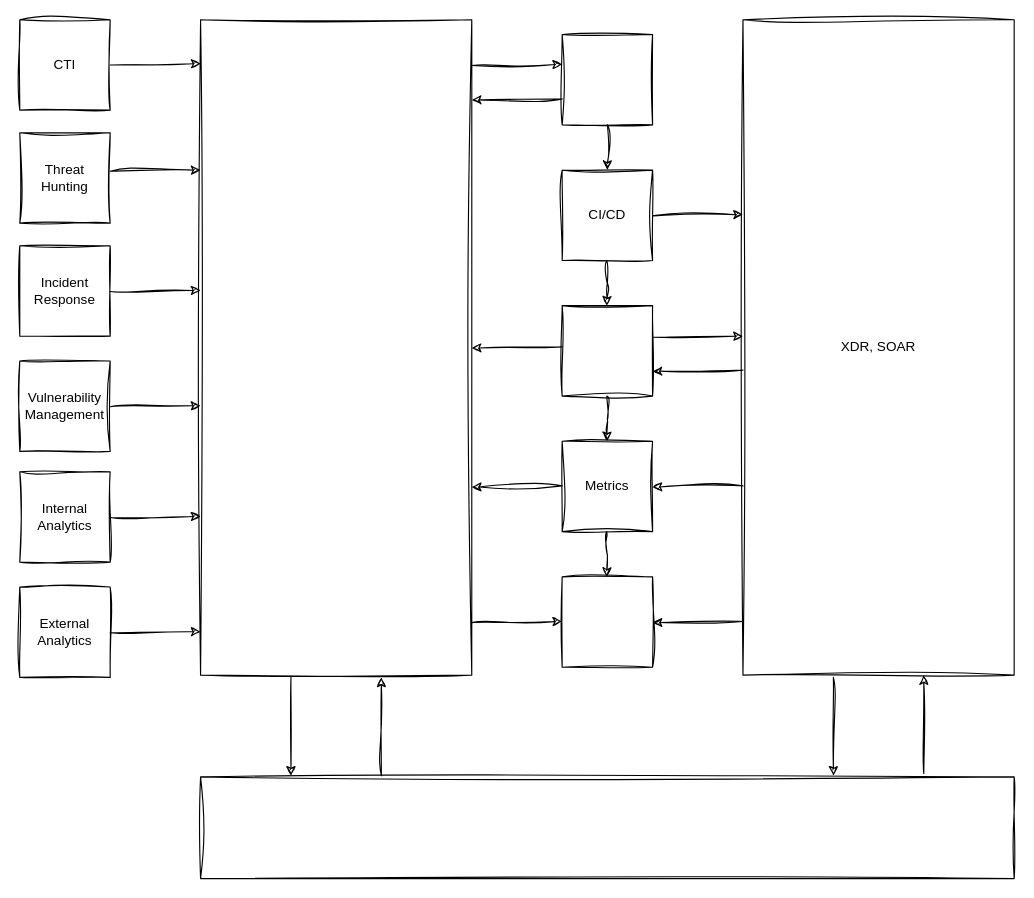
The diagram is 1034 pixels wide and 898 high, and some of its shapes have lost their labels. Each missing label, with the centre of its shape:
"Detection Development" goes at point 335,347.
"Documentation" goes at point 607,621.
"Purple Teaming, Adversary Emulation" goes at point 606,827.
"Repository" goes at point 607,79.
"Validation" goes at point 607,350.
